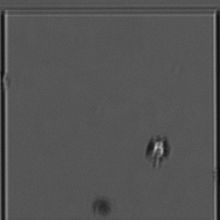Dead Cell: (90, 195, 114, 220)
Living Cell: (143, 131, 174, 166)
